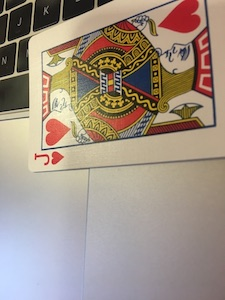JackOfHearts: (25, 1, 224, 176)
